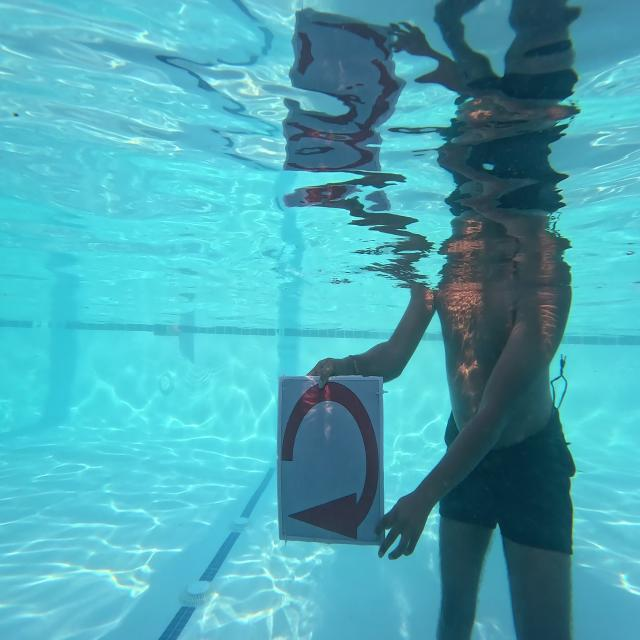red_side: (268, 358, 392, 546)
